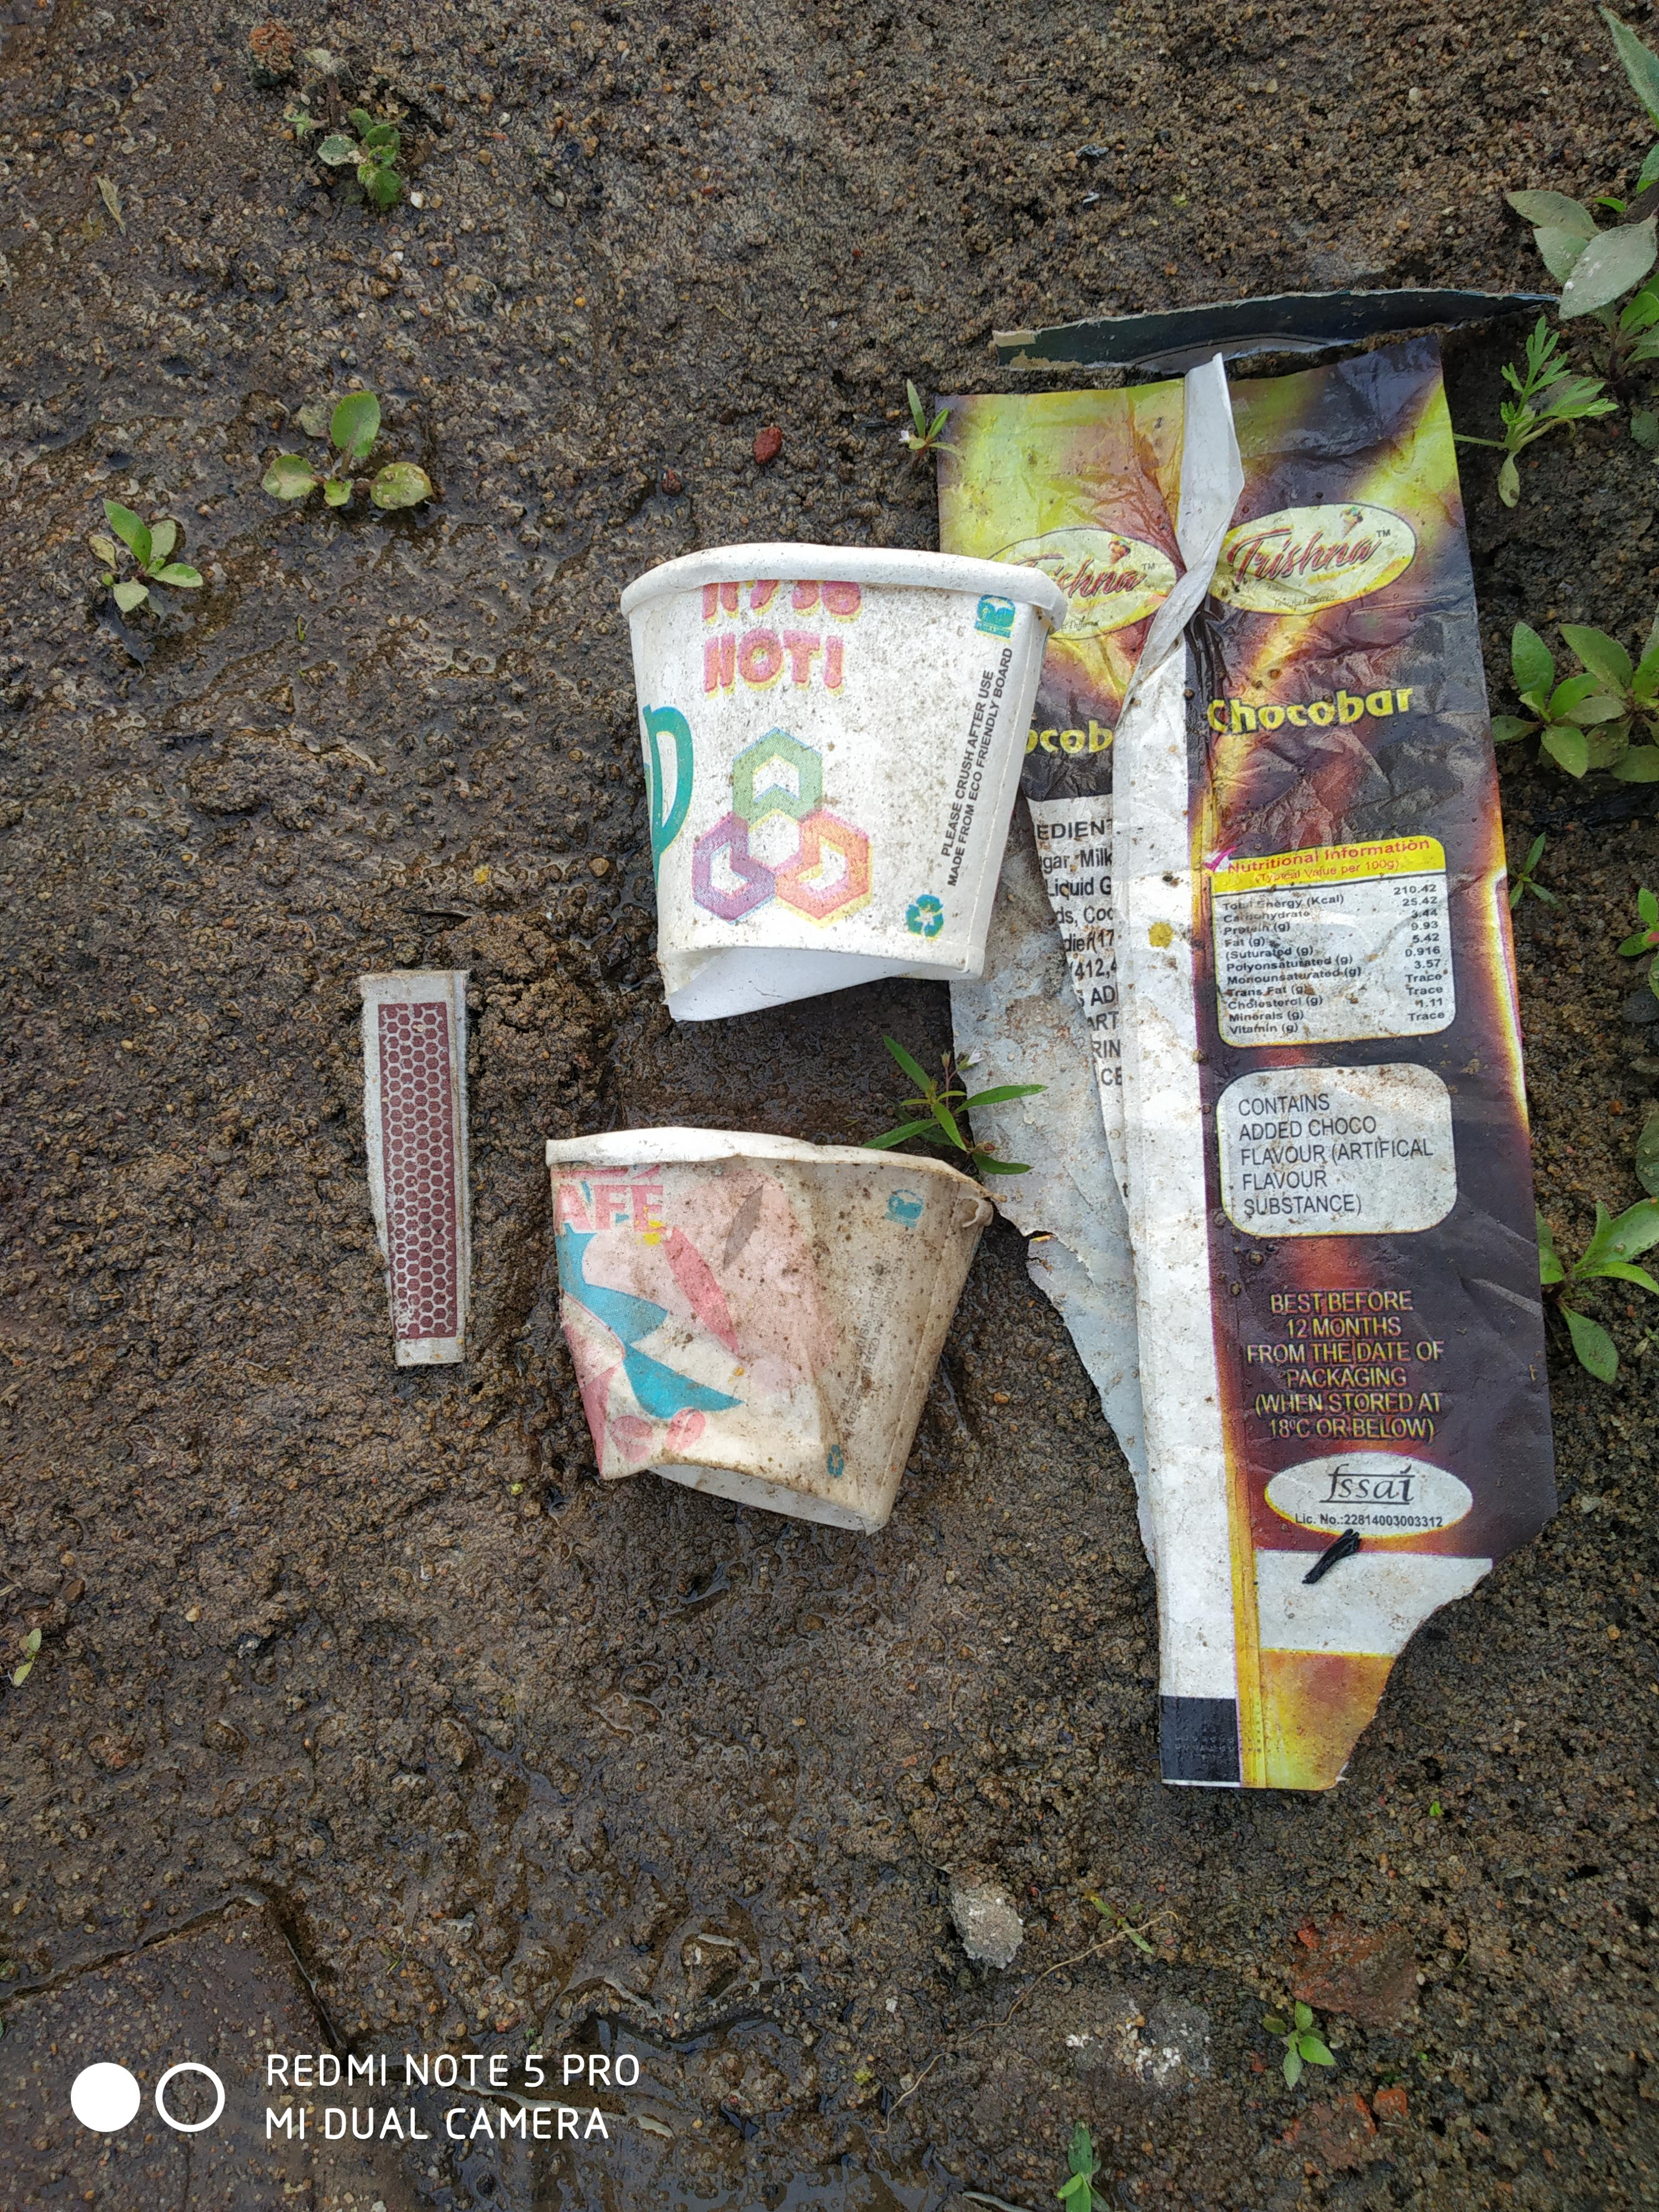trash: (354, 266, 1567, 1822)
